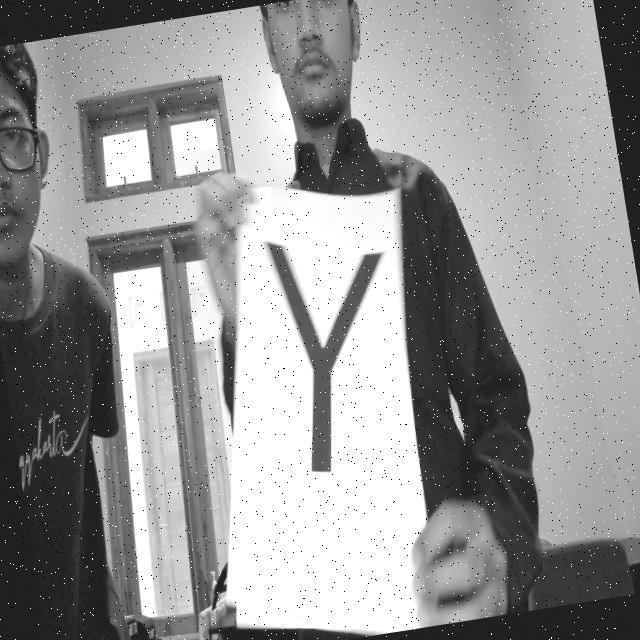y: (249, 207, 427, 526)
